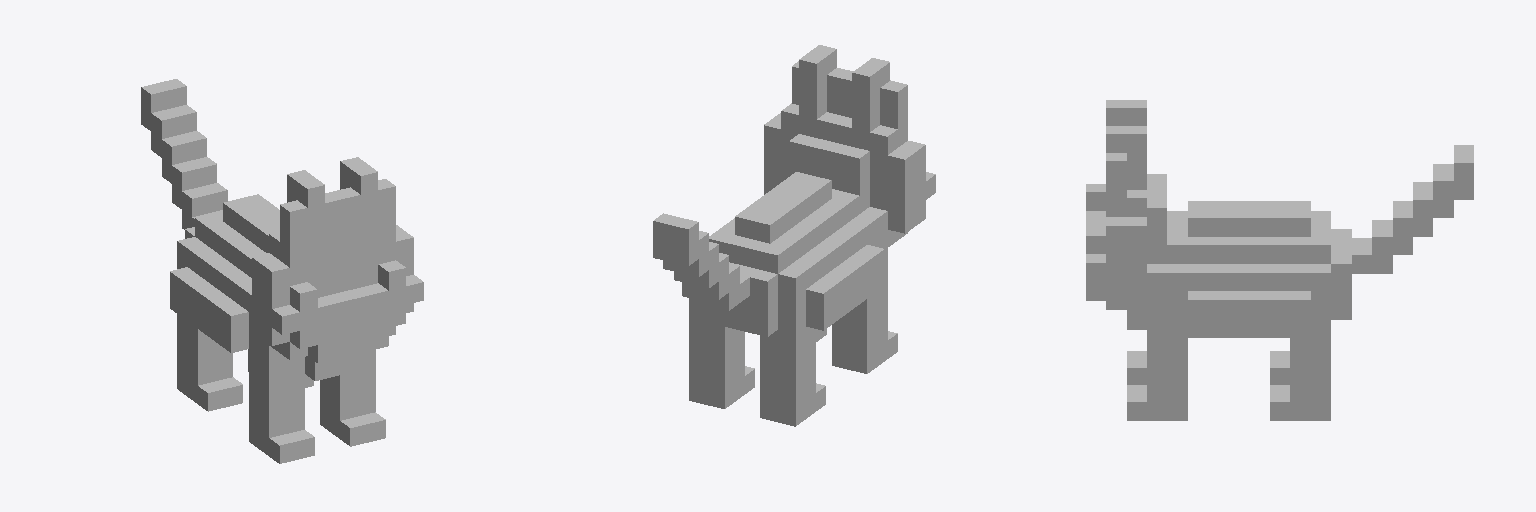
The model's file is cat-1.obj.
The picture shows the model from 3 angles: view 1: azimuth 30°, elevation 25°; view 2: azimuth 150°, elevation 25°; view 3: azimuth 270°, elevation 25°; orthographic projection.
Parts seen in each view (by area): view 1: object 1; view 2: object 1; view 3: object 1.
Boxes of the visible parts, x1,y1,x2,y2 form: object 1: [141, 79, 423, 463]; object 1: [653, 45, 935, 426]; object 1: [1086, 100, 1473, 420].
Size of the model in its own units: 0.8 by 1.5 by 1.9.